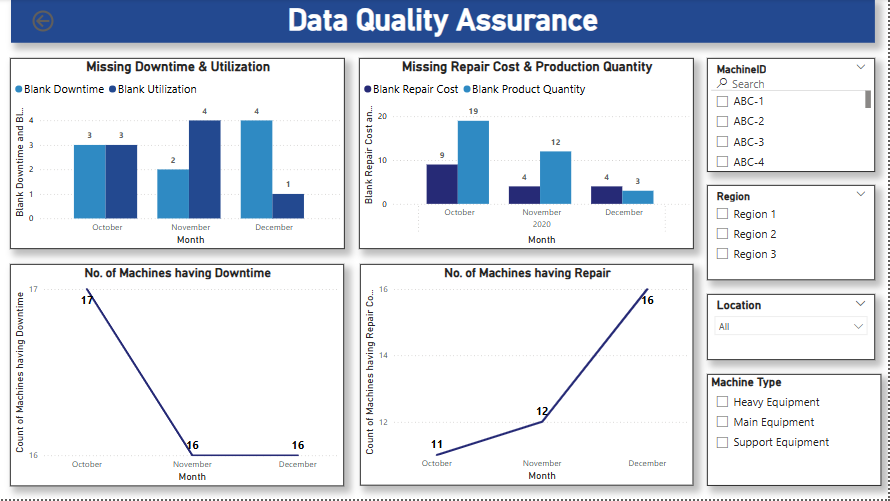

This screenshot's page, from the dashboard's own definition file:
{"tool":"powerbi","page":{"name":"DataQuality","canvas":[1280,720],"ordinal":1},"visuals":[{"type":"textbox","box":[15.8,0,1244.2,63.4],"z":0},{"type":"clusteredColumnChart","title":"Missing Downtime & Utilization","fields":{"Category":["Data Quality New.Date.Variation.Date Hierarchy.Year","Data Quality New.Date.Variation.Date Hierarchy.Month"],"Y":["DQ.BlankDOWNTIME","Sum(Data Quality New.BlankUtilization)"]},"box":[14.4,85,482.4,275],"z":1000},{"type":"clusteredColumnChart","title":"Missing Repair Cost & Production Quantity","fields":{"Category":["Data Quality New.Date.Variation.Date Hierarchy.Year","Data Quality New.Date.Variation.Date Hierarchy.Month"],"Y":["Data Quality New.Blank Repair Cost","Data Quality New.Blank Product Quantity"]},"box":[517,85,482.4,275],"z":2000},{"type":"slicer","fields":{"Values":["Data Quality New.MachineID"]},"box":[1018.1,85,241.9,164.2],"z":3000},{"type":"slicer","fields":{"Values":["DimLoc.Region"]},"box":[1018.1,267.8,241.9,136.8],"z":4000},{"type":"slicer","fields":{"Values":["DimLoc.Location"]},"box":[1018.1,424.8,241.9,95],"z":5000},{"type":"slicer","title":"Machine Type","fields":{"Values":["DimMachine.Machine Type"]},"box":[1018.1,540,250.6,161.3],"z":6000},{"type":"lineChart","title":"No. of Machines having Downtime","fields":{"Category":["Data Quality New.Date.Variation.Date Hierarchy.Month"],"Y":["DQ.Count of Machines having Downtime"]},"box":[14.4,381.6,481,319.7],"z":7000},{"type":"lineChart","title":"No. of Machines having Repair","fields":{"Category":["Data Quality New.Date.Variation.Date Hierarchy.Month"],"Y":["Data Quality New.Count of Machines having Repair Cost"]},"box":[519.1,381.3,480.4,319.2],"z":8000},{"type":"actionButton","box":[41.8,11.5,99.4,40.3],"z":9000}]}

Visuals, with their boxes in screenshot pixels (x1, y1, x2, y2), scaled from the page's 1280x720 canvas onto the 890x501 screenshot:
textbox: left=11, top=0, right=876, bottom=44
"Missing Downtime & Utilization" clusteredColumnChart: left=10, top=59, right=345, bottom=250
"Missing Repair Cost & Production Quantity" clusteredColumnChart: left=359, top=59, right=695, bottom=250
slicer - Data Quality New.MachineID: left=708, top=59, right=876, bottom=173
slicer - DimLoc.Region: left=708, top=186, right=876, bottom=282
slicer - DimLoc.Location: left=708, top=296, right=876, bottom=362
"Machine Type" slicer: left=708, top=376, right=882, bottom=488
"No. of Machines having Downtime" lineChart: left=10, top=266, right=344, bottom=488
"No. of Machines having Repair" lineChart: left=361, top=265, right=695, bottom=487
actionButton: left=29, top=8, right=98, bottom=36
